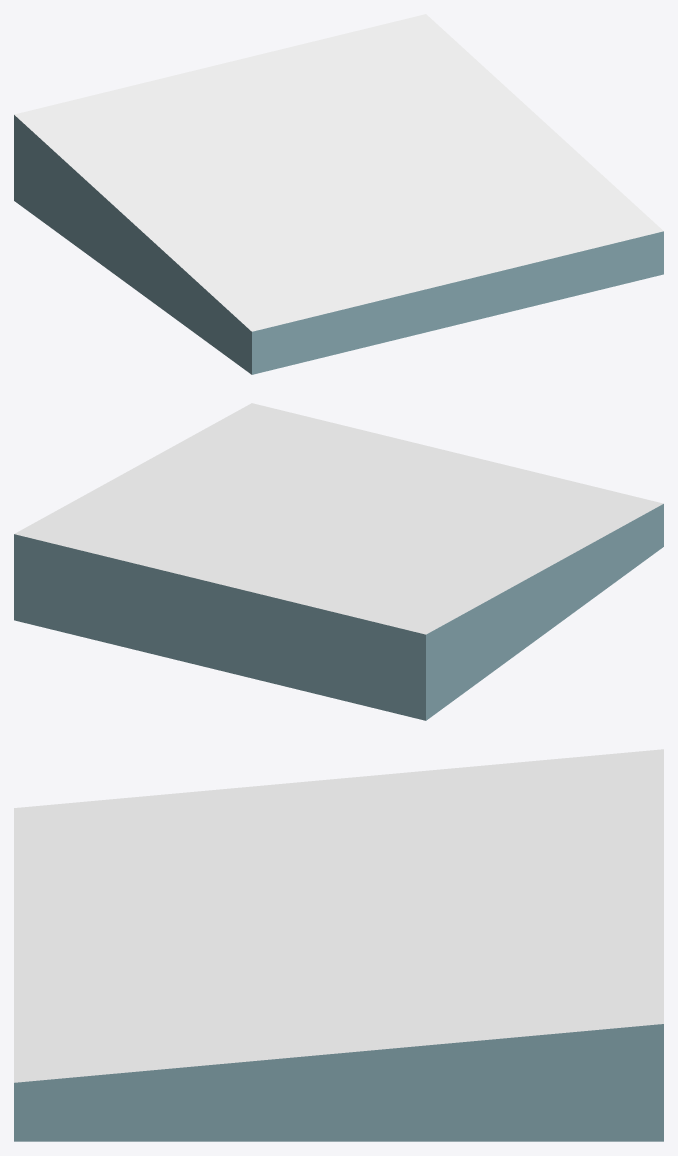
Rendered from Terrain_Modular_Tiles_Snow_Ice_Ramp_Small_01.fbx.
3 views of the same model, one above another, from view 1: azimuth 30°, elevation 25°; view 2: azimuth 150°, elevation 25°; view 3: azimuth 270°, elevation 25° (orthographic). The views are drawn at different scales.
Parts seen in each view (by area): view 1: Terrain_Modular_Tiles_Snow_Ice_Ramp_Small_01; view 2: Terrain_Modular_Tiles_Snow_Ice_Ramp_Small_01; view 3: Terrain_Modular_Tiles_Snow_Ice_Ramp_Small_01.
Part boxes in pixels (box(x1,y1,x2,y2)): Terrain_Modular_Tiles_Snow_Ice_Ramp_Small_01: box(14, 14, 663, 374); Terrain_Modular_Tiles_Snow_Ice_Ramp_Small_01: box(14, 403, 663, 720); Terrain_Modular_Tiles_Snow_Ice_Ramp_Small_01: box(14, 749, 663, 1141).
Bounding box in the file's own units: 3000 × 600 × 3000.
